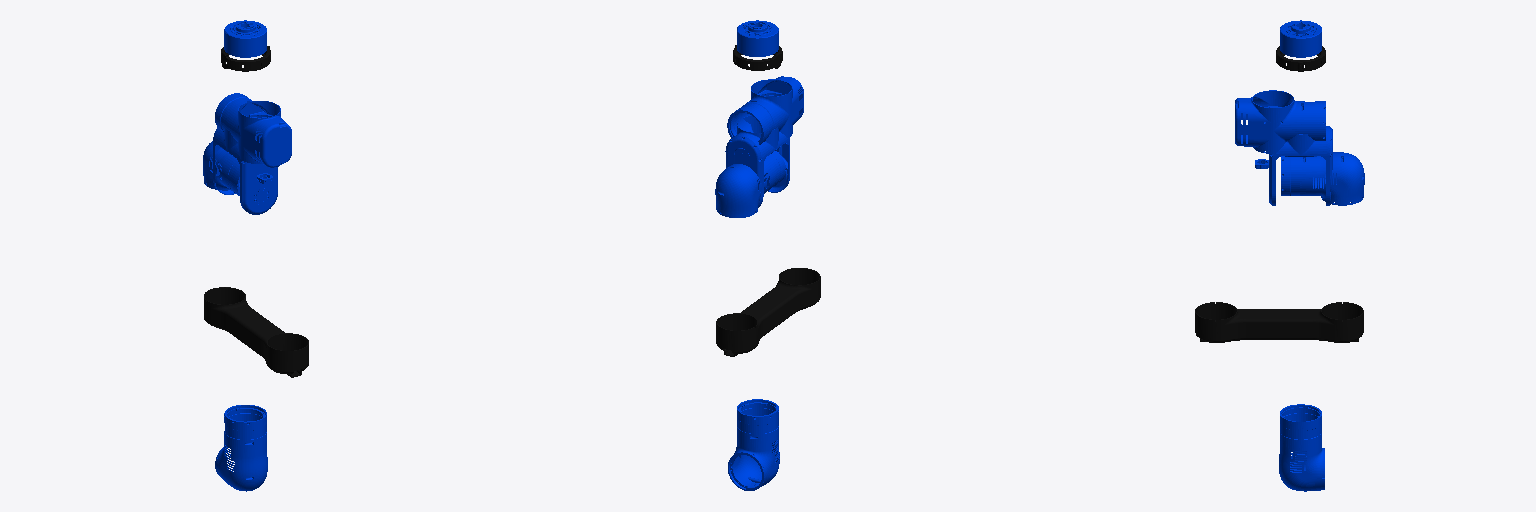
robot.urdf — relax:
<?xml version="1.0" ?>
<!-- =================================================================================== -->
<!-- |    This document was autogenerated by xacro from relax_robot.urdf.xacro         | -->
<!-- |    EDITING THIS FILE BY HAND IS NOT RECOMMENDED                                 | -->
<!-- =================================================================================== -->
<robot name="relax">
  <!-- ************SELECT PARTS*************-->
  <!-- *************************************-->
  <!-- color -->
  <material name="darkblue">
    <color rgba="0.0 0.3 0.9 1"/>
  </material>
  <material name="dark">
    <color rgba="0.1 0.1 0.1 1"/>
  </material>
  <!-- ARM -->
  <!-- links -->
  <link name="relax_arm1_link1">
    <!-- link 1 -->
    <inertial>
      <origin xyz="-0.0018991406 0.022645162 0.16741297"/>
      <mass value="6.2381702"/>
      <inertia ixx="0.065816037" ixy="-0.00011791629" ixz="-4.0067927e-05" iyy="0.057828314" iyz="-0.011584403" izz="0.01940196"/>
    </inertial>
    <visual>
      <origin rpy="0 0 0" xyz="0 0 0"/>
      <geometry name="relax_link1_visual">
        <mesh filename="package://relax_urdf/meshes/mesh_link1.stl" scale="0.001 0.001 0.001"/>
      </geometry>
      <material name="darkblue"/>
    </visual>
    <collision>
      <origin rpy="0 0 0" xyz="0 0 0"/>
      <geometry name="relax_link1_collision">
        <mesh filename="package://relax_urdf/meshes/mesh_link1.stl" scale="0.001 0.001 0.001"/>
      </geometry>
    </collision>
  </link>
  <link name="relax_arm1_link2">
    <!-- link 2 -->
    <inertial>
      <origin xyz="-3.1494342e-05 -0.20005579 -0.0057041875"/>
      <mass value="2.601371"/>
      <inertia ixx="0.064570453" ixy="-0.00019926537999999998" ixz="-1.6866045999999998e-06" iyy="0.0051512542" iyz="-2.9627309e-06" izz="0.06672465300000001"/>
    </inertial>
    <visual>
      <origin rpy="0 0 0" xyz="0 0 0"/>
      <geometry name="relax_link2_visual">
        <mesh filename="package://relax_urdf/meshes/mesh_link2.stl" scale="0.001 0.001 0.001"/>
      </geometry>
      <material name="dark"/>
    </visual>
    <collision>
      <origin rpy="0 0 0" xyz="0 0 0"/>
      <geometry name="relax_link2_collision">
        <mesh filename="package://relax_urdf/meshes/mesh_link2.stl" scale="0.001 0.001 0.001"/>
      </geometry>
    </collision>
  </link>
  <link name="relax_arm1_link3">
    <!-- link 3 -->
    <inertial>
      <origin xyz="0.0020858498 -0.078452653 -0.10797347"/>
      <mass value="5.9482803"/>
      <inertia ixx="0.062877846" ixy="0.00011665783" ixz="0.00012931181" iyy="0.018390664" iyz="-0.011034081" izz="0.055056825999999996"/>
    </inertial>
    <visual>
      <origin rpy="0 0 0" xyz="0 0 0"/>
      <geometry name="relax_link3_visual">
        <mesh filename="package://relax_urdf/meshes/mesh_link3.stl" scale="0.001 0.001 0.001"/>
      </geometry>
      <material name="darkblue"/>
    </visual>
    <collision>
      <origin rpy="0 0 0" xyz="0 0 0"/>
      <geometry name="relax_link3_collision">
        <mesh filename="package://relax_urdf/meshes/mesh_link3.stl" scale="0.001 0.001 0.001"/>
      </geometry>
    </collision>
  </link>
  <link name="relax_arm1_link4">
    <!-- link 4 -->
    <inertial>
      <origin xyz="0.00096471566 -0.0042586853 0.046169896"/>
      <mass value="1.6710337"/>
      <inertia ixx="0.017329393999999998" ixy="0.00021094011" ixz="-0.00024511391" iyy="0.010036060999999999" iyz="0.00042230531" izz="0.012350325"/>
    </inertial>
    <visual>
      <origin rpy="0 0 0" xyz="0 0 0"/>
      <geometry name="relax_link4_visual">
        <mesh filename="package://relax_urdf/meshes/mesh_link4.stl" scale="0.001 0.001 0.001"/>
      </geometry>
      <material name="darkblue"/>
    </visual>
    <collision>
      <origin rpy="0 0 0" xyz="0 0 0"/>
      <geometry name="relax_link4_collision">
        <mesh filename="package://relax_urdf/meshes/mesh_link4.stl" scale="0.001 0.001 0.001"/>
      </geometry>
    </collision>
  </link>
  <link name="relax_arm1_link5">
    <!-- link 5 -->
    <inertial>
      <origin xyz="-0.0013991722 0.052618238 -0.08425954199999999"/>
      <mass value="6.181102"/>
      <inertia ixx="0.059736008" ixy="-0.00014975682" ixz="-5.2815066e-05" iyy="0.015244194999999999" iyz="0.0011994937999999999" izz="0.055701504"/>
    </inertial>
    <visual>
      <origin rpy="0 0 0" xyz="0 0 0"/>
      <geometry name="relax_link5_visual">
        <mesh filename="package://relax_urdf/meshes/mesh_link5.stl" scale="0.001 0.001 0.001"/>
      </geometry>
      <material name="darkblue"/>
    </visual>
    <collision>
      <origin rpy="0 0 0" xyz="0 0 0"/>
      <geometry name="relax_link5_collision">
        <mesh filename="package://relax_urdf/meshes/mesh_link5.stl" scale="0.001 0.001 0.001"/>
      </geometry>
    </collision>
  </link>
  <link name="relax_arm1_link6">
    <!-- link 6 -->
    <inertial>
      <origin xyz="0.0005687903199999999 0.0 0.0022653642000000002"/>
      <mass value="0.48141935"/>
      <inertia ixx="0.0008220642" ixy="1.0675057e-07" ixz="3.5319177e-07" iyy="0.00083596992" iyz="0.0" izz="0.0012890535"/>
    </inertial>
    <visual>
      <origin rpy="0 0 0" xyz="0 0 0"/>
      <geometry name="relax_link6_visual">
        <mesh filename="package://relax_urdf/meshes/mesh_link6.stl" scale="0.001 0.001 0.001"/>
      </geometry>
      <material name="darkblue"/>
    </visual>
    <collision>
      <origin rpy="0 0 0" xyz="0 0 0"/>
      <geometry name="relax_link6_collision">
        <mesh filename="package://relax_urdf/meshes/mesh_link6.stl" scale="0.001 0.001 0.001"/>
      </geometry>
    </collision>
  </link>
  <link name="relax_arm1_linkEndEffector"/>
  <!-- link End-Effector -->
  <!-- joints -->
  <joint name="relax_arm1_joint0" type="revolute">
    <!-- joint 1 -->
    <parent link="base_link"/>
    <child link="relax_arm1_link1"/>
    <origin rpy="0.0 0.0 0.0" xyz="-0.13 0.0 0.3613"/>
    <axis xyz="0 0 1"/>
    <limit effort="147.0" lower="-2.7" upper="2.7" velocity="3.86"/>
    <dynamics damping="0.2" friction="10.0"/>
  </joint>
  <joint name="relax_arm1_joint1" type="revolute">
    <!-- joint 1 -->
    <parent link="relax_arm1_link1"/>
    <child link="relax_arm1_link2"/>
    <origin rpy="-1.5707963 0.0 0.0" xyz="0.0 0.13166 0.24966"/>
    <axis xyz="0 0 1"/>
    <limit effort="147.0" lower="-2.7" upper="2.7" velocity="3.86"/>
    <dynamics damping="0.2" friction="10.0"/>
  </joint>
  <joint name="relax_arm1_joint2" type="revolute">
    <!-- joint 2 -->
    <parent link="relax_arm1_link2"/>
    <child link="relax_arm1_link3"/>
    <origin rpy="0.0 0.0 0.0" xyz="0.0 -0.4 0.0"/>
    <axis xyz="0 0 -1"/>
    <limit effort="147.0" lower="-2.7" upper="2.7" velocity="3.86"/>
    <dynamics damping="0.2" friction="10.0"/>
  </joint>
  <joint name="relax_arm1_joint3" type="revolute">
    <!-- joint 3 -->
    <parent link="relax_arm1_link3"/>
    <child link="relax_arm1_link4"/>
    <origin rpy="1.5707963 0.0 0.0" xyz="0.0 -0.24966 -0.13166"/>
    <axis xyz="0 0 1"/>
    <limit effort="147.0" lower="-2.7" upper="2.7" velocity="3.86"/>
    <dynamics damping="0.2" friction="10.0"/>
  </joint>
  <joint name="relax_arm1_joint4" type="revolute">
    <!-- joint 4 -->
    <parent link="relax_arm1_link4"/>
    <child link="relax_arm1_link5"/>
    <origin rpy="1.5707963 0.0 0.0" xyz="0.0 -0.08816 0.1535"/>
    <axis xyz="0 0 -1"/>
    <limit effort="147.0" lower="-2.0" upper="2.0" velocity="3.86"/>
    <dynamics damping="0.2" friction="10.0"/>
  </joint>
  <joint name="relax_arm1_joint5" type="revolute">
    <parent link="relax_arm1_link5"/>
    <child link="relax_arm1_link6"/>
    <origin rpy="-1.5707963 0.0 0.0" xyz="0.0 0.22216 -0.08816"/>
    <axis xyz="0 0 1"/>
    <limit effort="147.0" lower="-2.7" upper="2.7" velocity="3.86"/>
    <dynamics damping="0.2" friction="10.0"/>
  </joint>
  <joint name="relax_arm1_joint6" type="fixed">
    <!-- joint 6 fake -->
    <parent link="relax_arm1_link6"/>
    <child link="relax_arm1_linkEndEffector"/>
    <origin rpy="0.0 0.0 0.0" xyz="0.0 0.0 0.028"/>
  </joint>


  <!-- link ring -->
  <link name="teraflex_1_link">
    <!-- link -->
    <inertial>
      <origin xyz="0.0 0.0 0.0"/>
      <mass value="0.03"/>
      <inertia ixx="8.11875e-11" ixy="0.0" ixz="0.0" iyy="8.11875e-11" iyz="0.0" izz="0.0025343749999999997"/>
    </inertial>
    <visual>
      <origin rpy="0 0 0" xyz="0 0 0"/>
      <geometry name="teraflex_link_visual">
        <mesh filename="package://relax_urdf/meshes/mesh_teraflex-ring.stl" scale="0.001 0.001 0.001"/>
      </geometry>
      <material name="dark"/>
    </visual>
    <collision>
      <origin rpy="0 0 0" xyz="0 0 0"/>
      <geometry name="teraflex_link_collision">
        <mesh filename="package://relax_urdf/meshes/mesh_teraflex-ring.stl" scale="0.001 0.001 0.001"/>
      </geometry>
    </collision>
  </link>
  <link name="teraflex_1_sensor0_link"/>
  <link name="teraflex_1_sensor1_link"/>
  <link name="teraflex_1_sensor2_link"/>
  <link name="teraflex_1_sensor3_link"/>
  <link name="teraflex_1_sensor4_link"/>
  <link name="teraflex_1_sensor5_link"/>
  <link name="teraflex_1_sensor6_link"/>
  <link name="teraflex_1_sensor7_link"/>

<!-- mounting joint -->
  <joint name="teraflex_1_mount_joint" type="fixed">
    <origin rpy="-1.5707963 -0.6404992 0" xyz=" 0.0 0.142500 -0.0881600 "/>
    <parent link="relax_arm1_link5"/>
    <child link="teraflex_1_link"/>
  </joint>

  <joint name="teraflex_1_sensor0_joint" type="fixed">
    <!-- joint fake -->
    <parent link="relax_arm1_link5"/>
    <child link="teraflex_1_sensor0_link"/>
    <origin rpy="1.5708 0.6405 3.1416" xyz="-0.0622195 0.142500 -0.1345334"/>
  </joint>
  <joint name="teraflex_1_sensor1_joint" type="fixed">
    <!-- joint fake -->
    <parent link="relax_arm1_link5"/>
    <child link="teraflex_1_sensor1_link"/>
    <origin rpy="1.5708 1.4259 3.1416" xyz="-0.0112049 0.142500 -0.1649568"/>
  </joint>
  <joint name="teraflex_1_sensor2_joint" type="fixed">
    <!-- joint fake -->
    <parent link="relax_arm1_link5"/>
    <child link="teraflex_1_sensor2_link"/>
    <origin rpy="-1.5708 0.9303 0.0" xyz="0.0463735 0.142500 -0.1503796"/>
  </joint>
  <joint name="teraflex_1_sensor3_joint" type="fixed">
    <!-- joint fake -->
    <parent link="relax_arm1_link5"/>
    <child link="teraflex_1_sensor3_link"/>
    <origin rpy="-1.5708 0.1449 0.0" xyz="0.0767869 0.142500 -0.0993649"/>
  </joint>
  <joint name="teraflex_1_sensor4_joint" type="fixed">
    <!-- joint fake -->
    <parent link="relax_arm1_link5"/>
    <child link="teraflex_1_sensor4_link"/>
    <origin rpy="-1.5708 -0.6405 0.0" xyz="0.0622196 0.142500 -0.0417865"/>
  </joint>
  <joint name="teraflex_1_sensor5_joint" type="fixed">
    <!-- joint fake -->
    <parent link="relax_arm1_link5"/>
    <child link="teraflex_1_sensor5_link"/>
    <origin rpy="-1.5708 -1.4259 0.0" xyz="0.0112049 0.142500 -0.0113731"/>
  </joint>
  <joint name="teraflex_1_sensor6_joint" type="fixed">
    <!-- joint fake -->
    <parent link="relax_arm1_link5"/>
    <child link="teraflex_1_sensor6_link"/>
    <origin rpy="1.5708 -0.9303 3.1416" xyz="-0.0463735 0.142500 -0.0259404"/>
  </joint>
  <joint name="teraflex_1_sensor7_joint" type="fixed">
    <!-- joint fake -->
    <parent link="relax_arm1_link5"/>
    <child link="teraflex_1_sensor7_link"/>
    <origin rpy="1.5708 -0.1449 3.1416" xyz="-0.0767870 0.142500 -0.0769551"/>
  </joint>

  <!-- end_effector attached -->
  <!-- <xacro:if value="${ADD_END_EFFECTOR}">
      <xacro:include filename="$(find relax_urdf)/urdf/parts/end_effector.urdf.xacro" />

      <xacro:end_effector arm_num="1"  parent_link="arm1_7">
                  <origin xyz="0. 0. 0." rpy="0. 0. 0."/>
      </xacro:end_effector>

      <xacro:end_effector arm_num="2"  parent_link="arm2_7">
                  <origin xyz="0. 0. 0." rpy="0. 0. 0."/>
      </xacroend_effector>
</xacro:if> -->
  <link name="base_link">
    <inertial>
      <mass value="97.0"/>
      <origin rpy="0 0 0" xyz="-0.054485000000000006 0.0 0.15"/>
      <inertia ixx="1.050832913" ixy="0.0" ixz="0.0" iyy="2.344165729" iyz="0.0" izz="2.7483322339999994"/>
    </inertial>
    <visual>
      <origin rpy="0 0 0" xyz="-0.004485 0 0"/>
      <geometry>
        <mesh filename="package://relax_urdf/meshes/mesh_base_revised.stl" scale="0.001 0.001 0.001"/>
      </geometry>
      <material name="dark_grey">
        <color rgba="0.3 0.3 0.3 1"/>
      </material>
    </visual>
    <collision>
      <origin rpy="0 0 0" xyz="-0.004485 0 0"/>
      <geometry>
        <mesh filename="package://relax_urdf/meshes/mesh_base_revised.stl" scale="0.001 0.001 0.001"/>
      </geometry>
    </collision>
  </link>
  <gazebo reference="base_link">
    <material>Gazebo/DarkGrey</material>
  </gazebo>
  
</robot>

--- What the picture shows (computed from the rendered views, not written in the file) ---
The picture shows the robot from 3 angles, left to right: view 1: azimuth 30°, elevation 25°; view 2: azimuth 150°, elevation 25°; view 3: azimuth 270°, elevation 25°; orthographic projection.
Model relax with 17 links and 16 joints (6 revolute, 10 fixed), rooted at base_link, posed every joint at zero.
Links seen in each view (by area): view 1: relax_arm1_link2, relax_arm1_link5, relax_arm1_link1, relax_arm1_link4, relax_arm1_link6, relax_arm1_link3, teraflex_1_link; view 2: relax_arm1_link2, relax_arm1_link1, relax_arm1_link5, relax_arm1_link3, relax_arm1_link4, relax_arm1_link6, teraflex_1_link; view 3: relax_arm1_link2, relax_arm1_link5, relax_arm1_link1, relax_arm1_link3, relax_arm1_link4, relax_arm1_link6, teraflex_1_link.
Link boxes in pixels (left/top/right/bottom): relax_arm1_link2: left=204, top=287, right=308, bottom=377; relax_arm1_link5: left=215, top=93, right=291, bottom=167; relax_arm1_link1: left=215, top=405, right=267, bottom=491; relax_arm1_link4: left=213, top=127, right=277, bottom=214; relax_arm1_link6: left=224, top=20, right=266, bottom=57; relax_arm1_link3: left=203, top=141, right=239, bottom=195; teraflex_1_link: left=221, top=46, right=270, bottom=71; relax_arm1_link2: left=716, top=268, right=820, bottom=356; relax_arm1_link1: left=728, top=399, right=779, bottom=490; relax_arm1_link5: left=727, top=76, right=803, bottom=144; relax_arm1_link3: left=715, top=151, right=785, bottom=217; relax_arm1_link4: left=725, top=116, right=789, bottom=207; relax_arm1_link6: left=737, top=20, right=778, bottom=56; teraflex_1_link: left=733, top=45, right=782, bottom=70; relax_arm1_link2: left=1195, top=302, right=1363, bottom=342; relax_arm1_link5: left=1235, top=90, right=1325, bottom=153; relax_arm1_link1: left=1279, top=404, right=1324, bottom=491; relax_arm1_link3: left=1281, top=152, right=1364, bottom=205; relax_arm1_link4: left=1255, top=126, right=1332, bottom=205; relax_arm1_link6: left=1280, top=20, right=1321, bottom=57; teraflex_1_link: left=1276, top=46, right=1325, bottom=71.
Bounding box of the posed robot: 0.165 × 0.5382 × 1.62 m (x, y, z).
Meshes: 8 distinct files referenced, 7 mesh visuals loaded (7 binary STL); not drawn: 1 (reference not matched to a file when rendering).